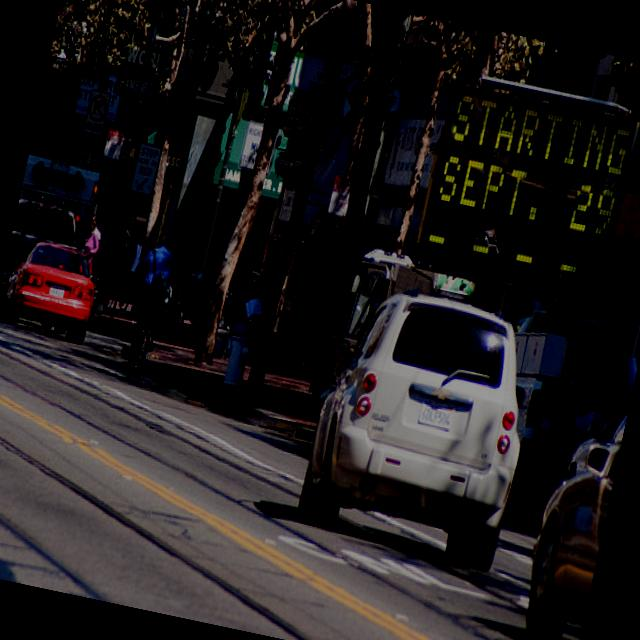Vehicle: (292, 276, 548, 572), (475, 302, 640, 532), (511, 386, 630, 640), (0, 151, 102, 311), (0, 194, 80, 328), (2, 234, 104, 324), (180, 270, 206, 326)
